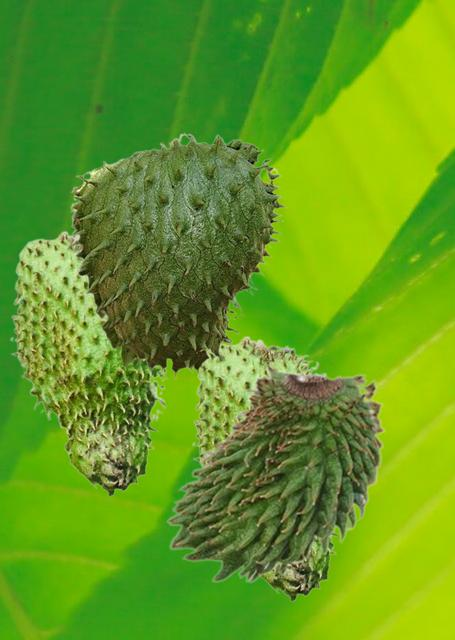guyabano: (70, 132, 286, 379), (165, 362, 385, 582), (9, 230, 168, 496), (191, 335, 338, 601)
